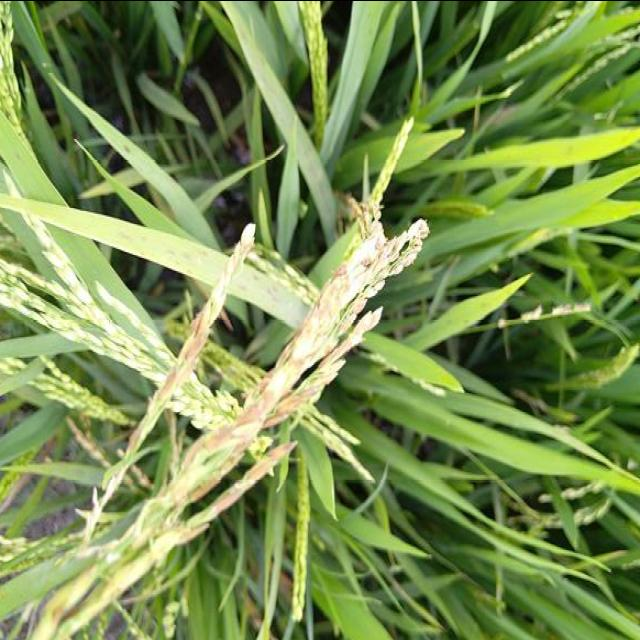Panicle Blight: (186, 188, 434, 498), (124, 304, 210, 458), (34, 542, 154, 640), (177, 440, 297, 528)
